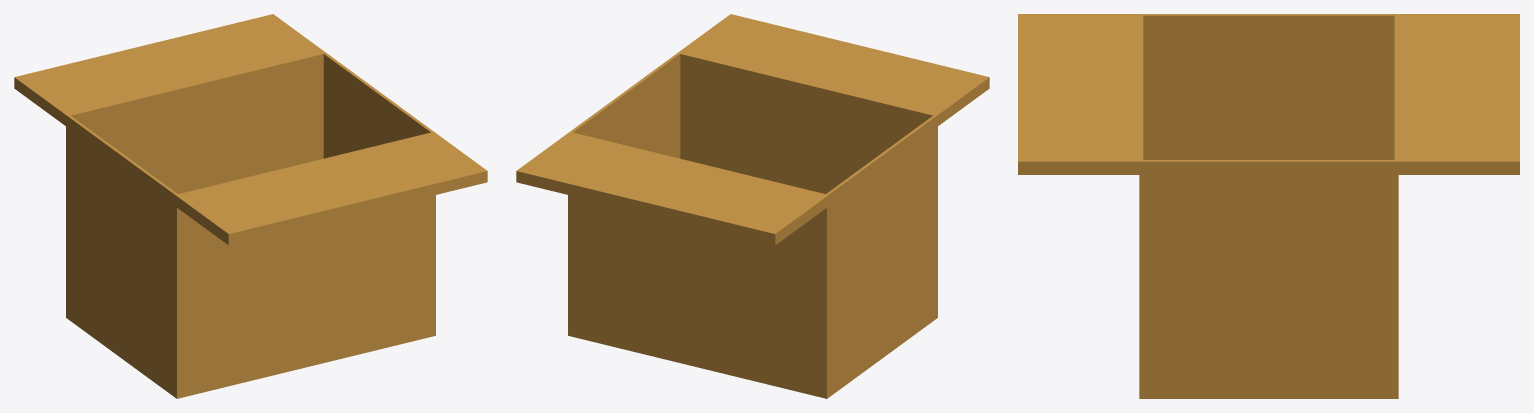
Rendered from Brown_Open_Box.fbx.
3 views of the same model, side by side, from view 1: azimuth 30°, elevation 25°; view 2: azimuth 150°, elevation 25°; view 3: azimuth 270°, elevation 25° (orthographic). The views are drawn at different scales.
Visible parts, largest first — view 1: Brown_Open_Box; view 2: Brown_Open_Box; view 3: Brown_Open_Box.
Part boxes in pixels (x1,y1,x2,y2): Brown_Open_Box: (14,14,487,398); Brown_Open_Box: (516,14,989,398); Brown_Open_Box: (1018,14,1519,398).
Bounding box in the file's own units: 44.45 × 33.26 × 63.76.
